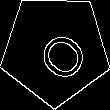O_NW: (23, 17, 87, 82)
